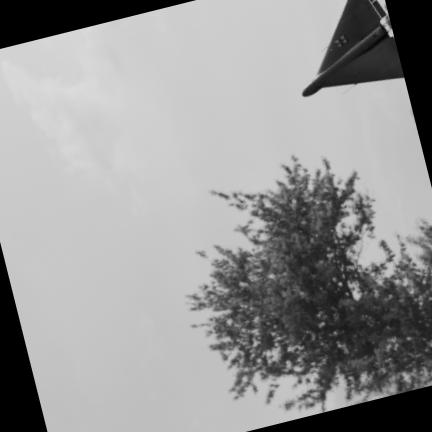Shahed: (302, 0, 403, 95)
